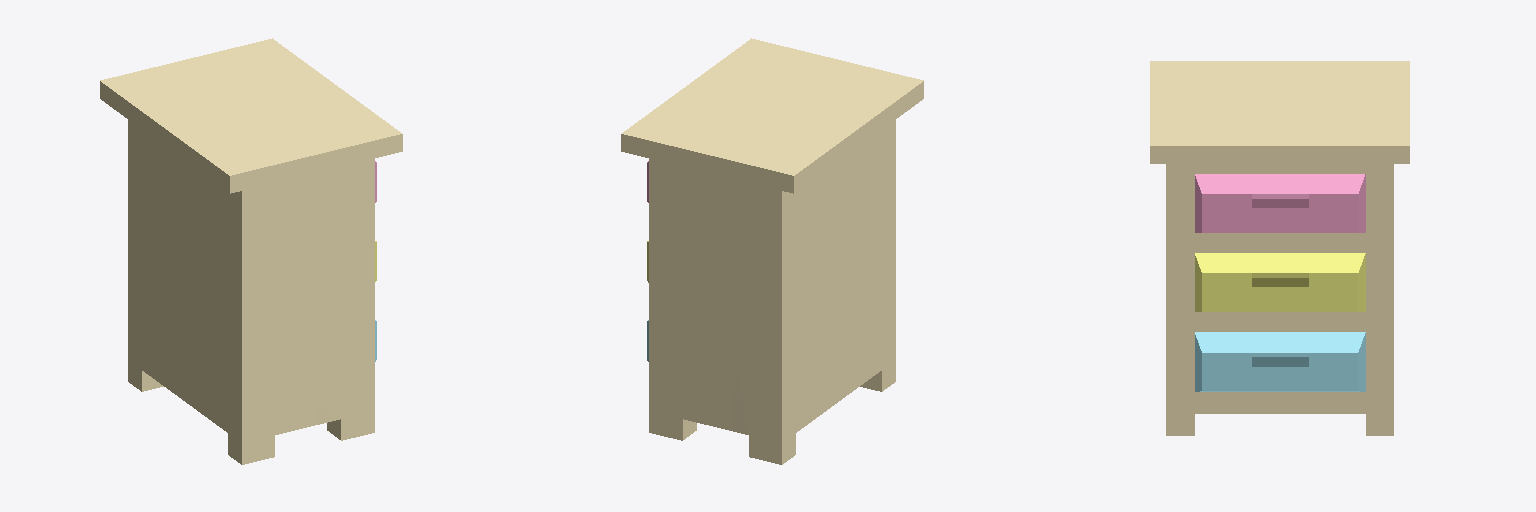
3 renders of one model, left to right at view 1: azimuth 30°, elevation 25°; view 2: azimuth 150°, elevation 25°; view 3: azimuth 270°, elevation 25°, orthographic.
Parts seen in each view (by area): view 1: Cube; view 2: Cube; view 3: Cube.
Boxes of the visible parts, x1=… form: Cube: x1=100, y1=38, x2=402, y2=464; Cube: x1=621, y1=38, x2=923, y2=464; Cube: x1=1150, y1=61, x2=1409, y2=435.
Bounding box in the file's own units: 7.52 × 11.8 × 9.28.
Materials: 1 (1 with a texture image).